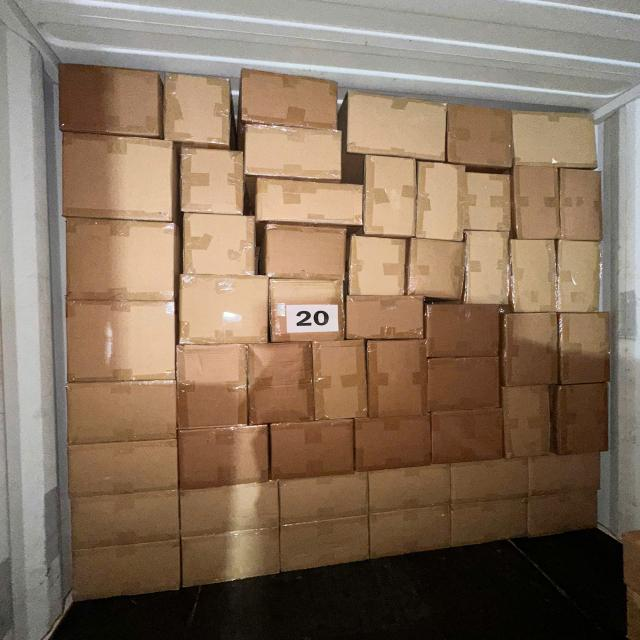Carton: (63, 131, 179, 222), (66, 216, 180, 304), (66, 296, 181, 380), (63, 68, 165, 142), (66, 488, 182, 553), (66, 381, 181, 446), (70, 538, 182, 604), (64, 438, 182, 500), (347, 92, 449, 163), (179, 526, 283, 589), (178, 276, 270, 346), (178, 342, 251, 429), (177, 423, 270, 489), (240, 68, 340, 128), (277, 512, 371, 574), (180, 481, 281, 535), (438, 167, 517, 236), (243, 126, 342, 181), (248, 343, 315, 424), (251, 179, 363, 227), (368, 502, 456, 562), (273, 417, 358, 479), (274, 471, 368, 527), (164, 71, 232, 146), (513, 110, 599, 168), (182, 215, 259, 279), (261, 225, 347, 282), (365, 339, 426, 419), (269, 281, 344, 346), (281, 474, 373, 525), (361, 154, 414, 240), (313, 341, 369, 421), (414, 164, 470, 243), (448, 102, 514, 169), (504, 314, 562, 390), (353, 416, 432, 471), (423, 304, 500, 360), (451, 494, 528, 550), (432, 408, 507, 465), (180, 152, 244, 218), (425, 355, 501, 410), (552, 382, 609, 454), (369, 465, 452, 513), (558, 314, 612, 386), (525, 489, 601, 539), (408, 239, 466, 303), (513, 165, 561, 242), (343, 297, 423, 343), (525, 451, 605, 497), (508, 239, 556, 315), (346, 235, 405, 296), (506, 384, 554, 457), (466, 232, 512, 308), (555, 239, 601, 313), (453, 460, 532, 502), (559, 170, 603, 243)
